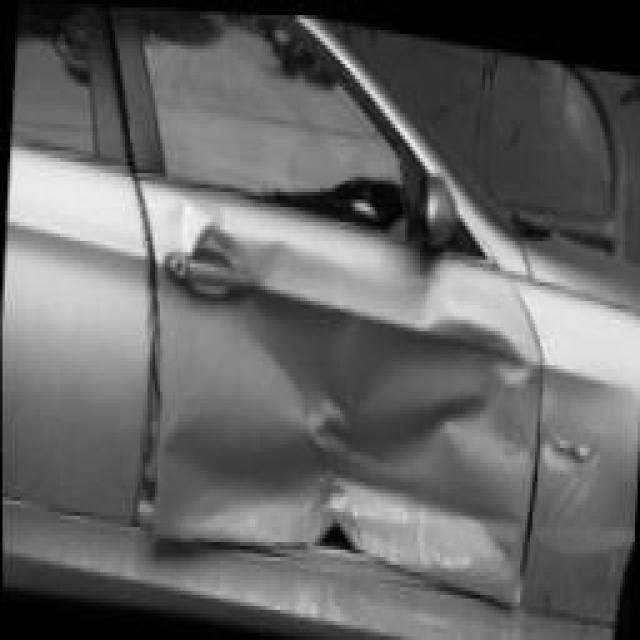Door: (148, 203, 516, 600)
